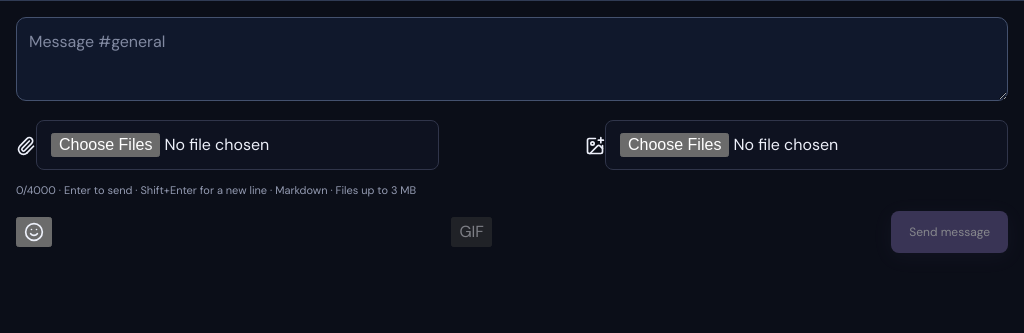
offers and keyboard-selects permitted administrator role mentions
Type "@role:mod" into the text box named "Message general" at (512, 59), box [16, 17, 1008, 101]
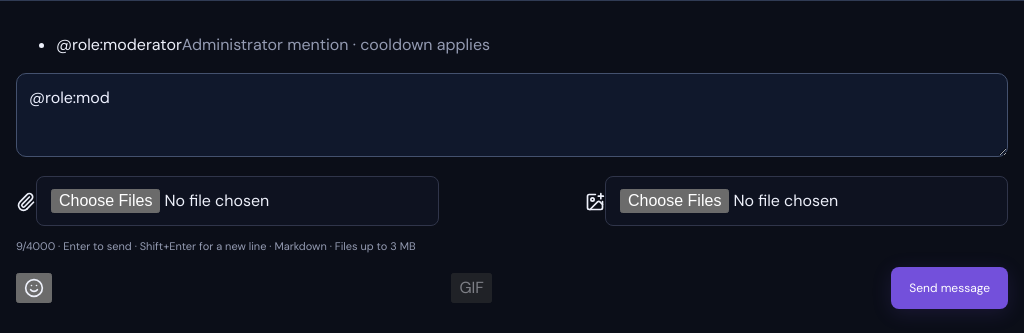
Now the option "@role:moderator" is shown, box [56, 34, 490, 55]
Press Tab in the text box named "Message general", box [16, 73, 1008, 157]
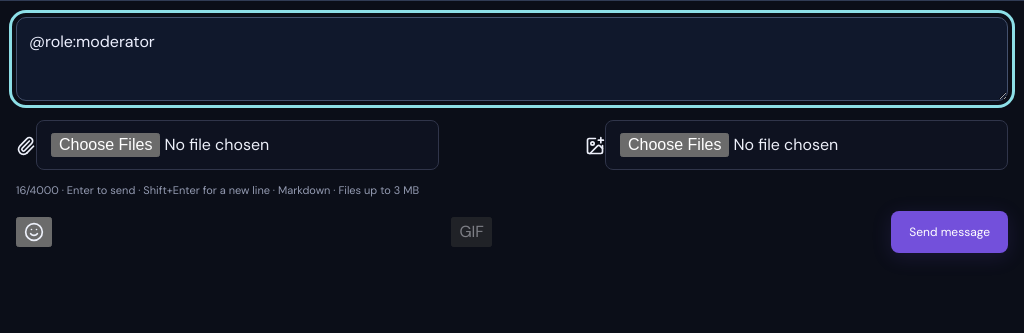
Now the text box named "Message general" holds "@role:moderator ", box [16, 17, 1008, 101]
